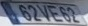2: (26, 3, 42, 22), (66, 5, 80, 24)
6: (17, 4, 32, 22), (57, 6, 71, 23)
E: (45, 4, 64, 23)
V: (35, 4, 50, 22)
